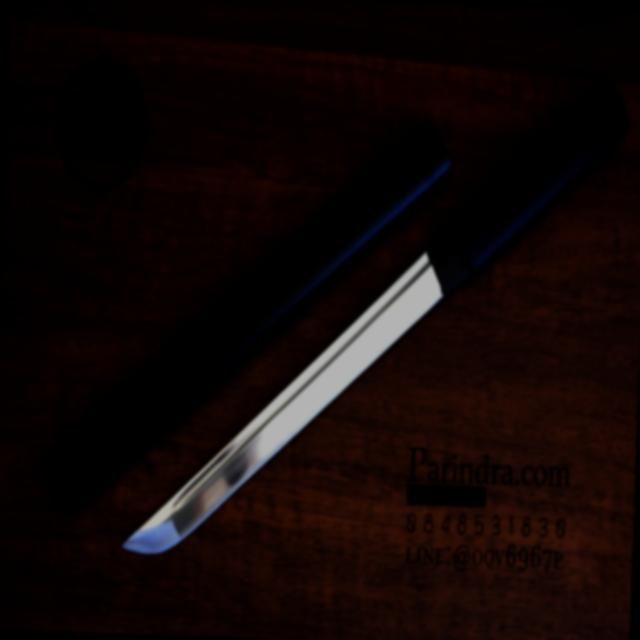short sword: (16, 37, 640, 595)
